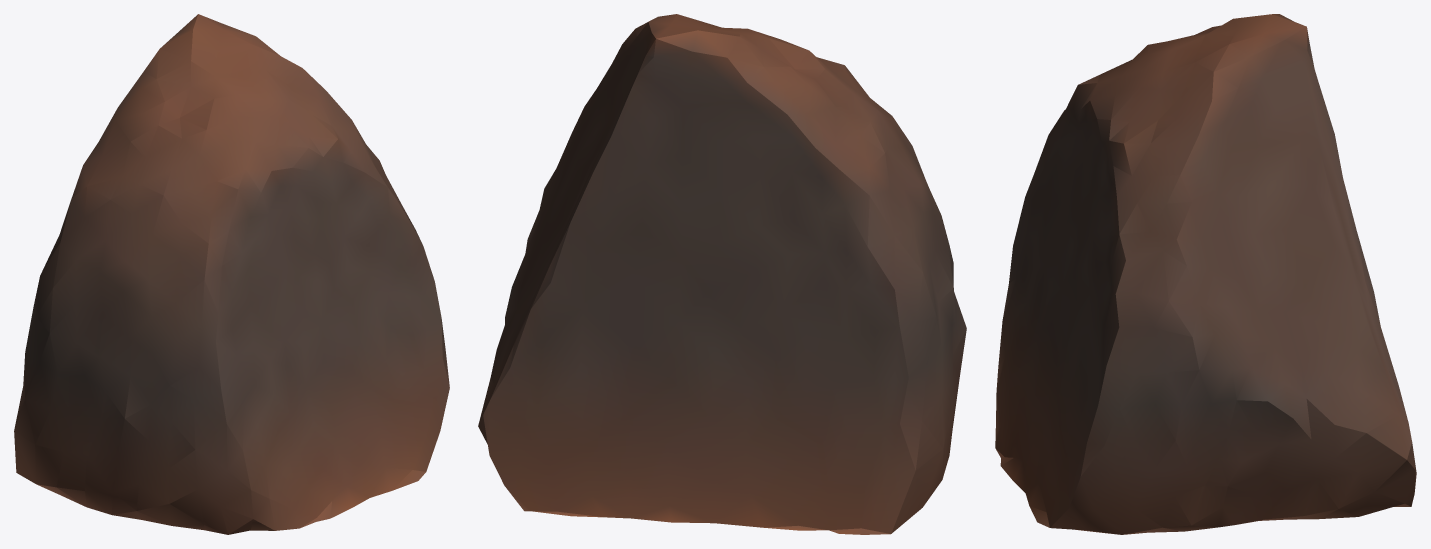
Rendered from rock_large_03.glb.
3 views of the same model, side by side, from view 1: azimuth 30°, elevation 25°; view 2: azimuth 150°, elevation 25°; view 3: azimuth 270°, elevation 25° (orthographic). The views are drawn at different scales.
Visible parts, largest first — view 1: rock; view 2: rock; view 3: rock.
Part boxes in pixels (x1,y1,x2,y2): rock: (14,14,449,534); rock: (478,14,966,534); rock: (995,14,1416,534).
Bounding box in the file's own units: 3.4 × 3.58 × 3.08.
